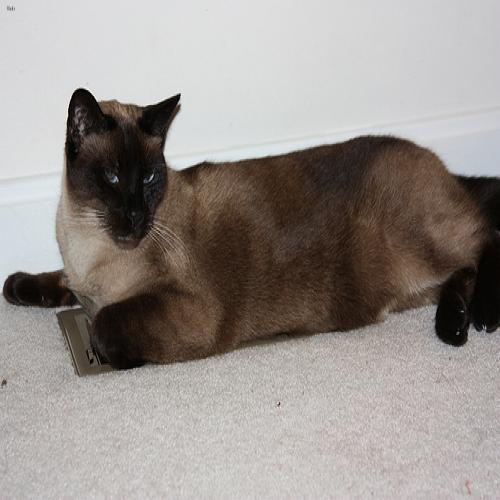siamese: (58, 75, 193, 258)
